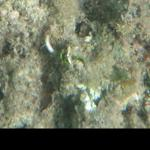dead: (1, 3, 145, 127)
